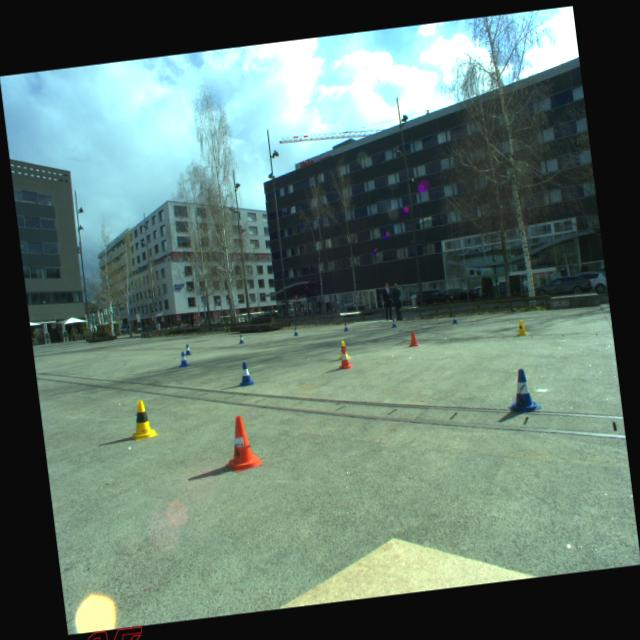blue_cone: (504, 366, 542, 414), (237, 361, 254, 386), (177, 350, 190, 368), (183, 344, 192, 356), (451, 313, 458, 324), (238, 334, 245, 344), (390, 318, 397, 328), (292, 326, 298, 336), (342, 322, 348, 331)
orange_cone: (220, 413, 264, 473), (336, 346, 354, 370), (406, 330, 419, 347)
yellow_cone: (126, 398, 158, 442), (336, 340, 351, 360), (515, 319, 529, 336)
